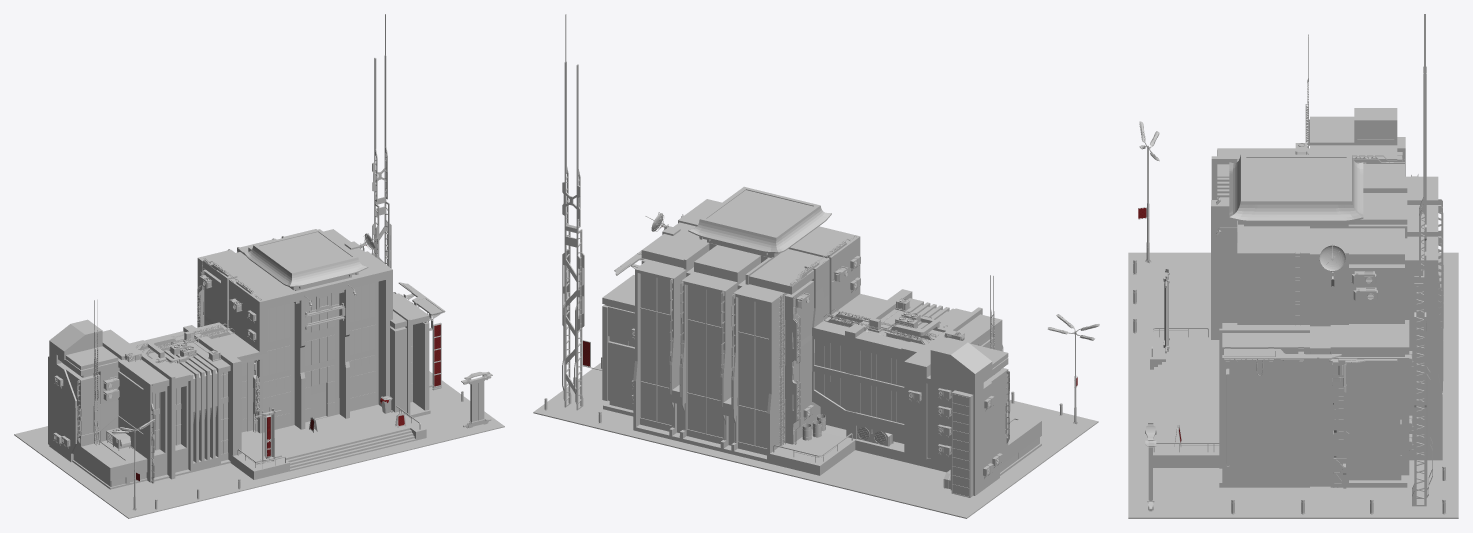
The model's file is business_block.obj.
3 views of the same model, side by side, from view 1: azimuth 30°, elevation 25°; view 2: azimuth 150°, elevation 25°; view 3: azimuth 270°, elevation 25° (orthographic). The views are drawn at different scales.
Visible parts, largest first — view 1: KB3D_NEC_BldgMD_A_Main, KB3D_NEC_BldgMD_A_Base, KB3D_NEC_BldgMD_A_AntennaA, KB3D_NEC_BldgMD_A_Banners; view 2: KB3D_NEC_BldgMD_A_Main, KB3D_NEC_BldgMD_A_Base, KB3D_NEC_BldgMD_A_AntennaA; view 3: KB3D_NEC_BldgMD_A_Main, KB3D_NEC_BldgMD_A_Base, KB3D_NEC_BldgMD_A_AntennaA, KB3D_NEC_BldgMD_A_Banners.
Boxes of the visible parts, x1,y1,x2,y2 form: KB3D_NEC_BldgMD_A_Main: (48, 229, 445, 489); KB3D_NEC_BldgMD_A_Base: (14, 371, 504, 518); KB3D_NEC_BldgMD_A_AntennaA: (372, 14, 391, 268); KB3D_NEC_BldgMD_A_Banners: (255, 408, 281, 463); KB3D_NEC_BldgMD_A_Main: (582, 186, 1041, 497); KB3D_NEC_BldgMD_A_Base: (533, 314, 1099, 518); KB3D_NEC_BldgMD_A_AntennaA: (562, 14, 584, 410); KB3D_NEC_BldgMD_A_Main: (1150, 34, 1443, 488); KB3D_NEC_BldgMD_A_Base: (1128, 121, 1458, 518); KB3D_NEC_BldgMD_A_AntennaA: (1412, 14, 1432, 506); KB3D_NEC_BldgMD_A_Banners: (1163, 267, 1169, 353).
Size of the model in its own units: 31.79 by 27.13 by 16.45.
